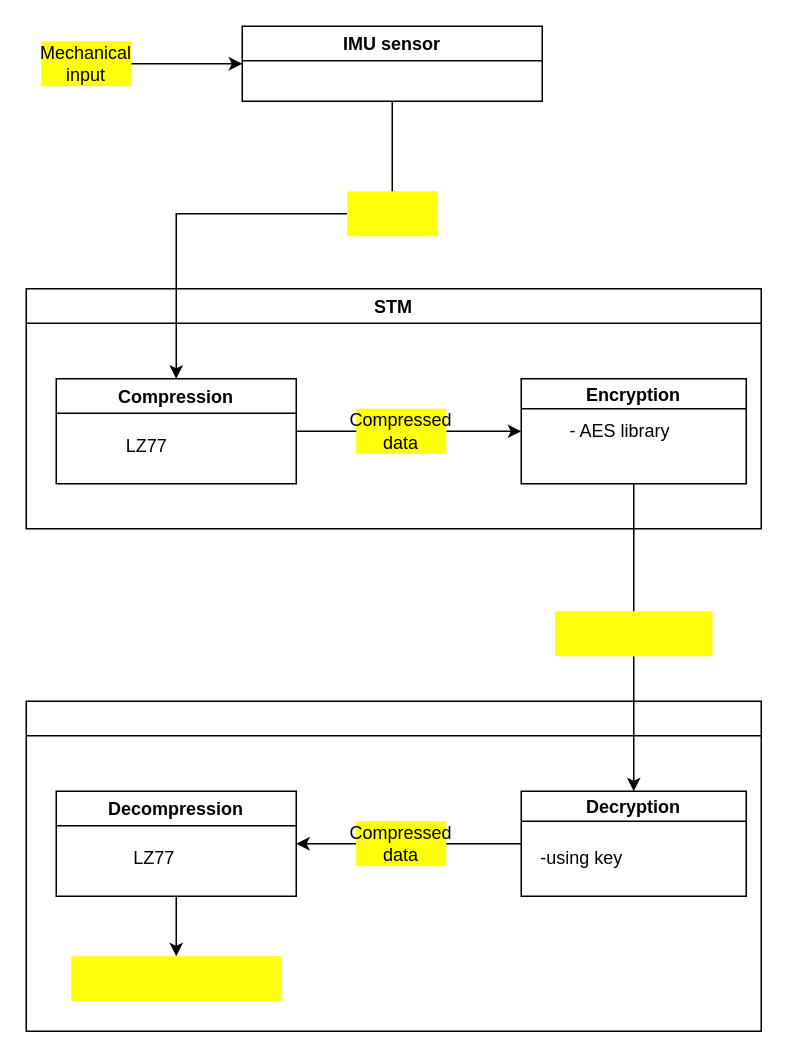
This 788x1058 diagram has some shape labels left out. The box of each missing label's shape, as (x1, y1, x2, y2) in pixels:
Compressed and encrypted data: (554, 610, 712, 656)
Original data: (346, 190, 436, 236)
PC: (25, 700, 761, 1031)
Print decompressed data: (70, 956, 280, 1000)
